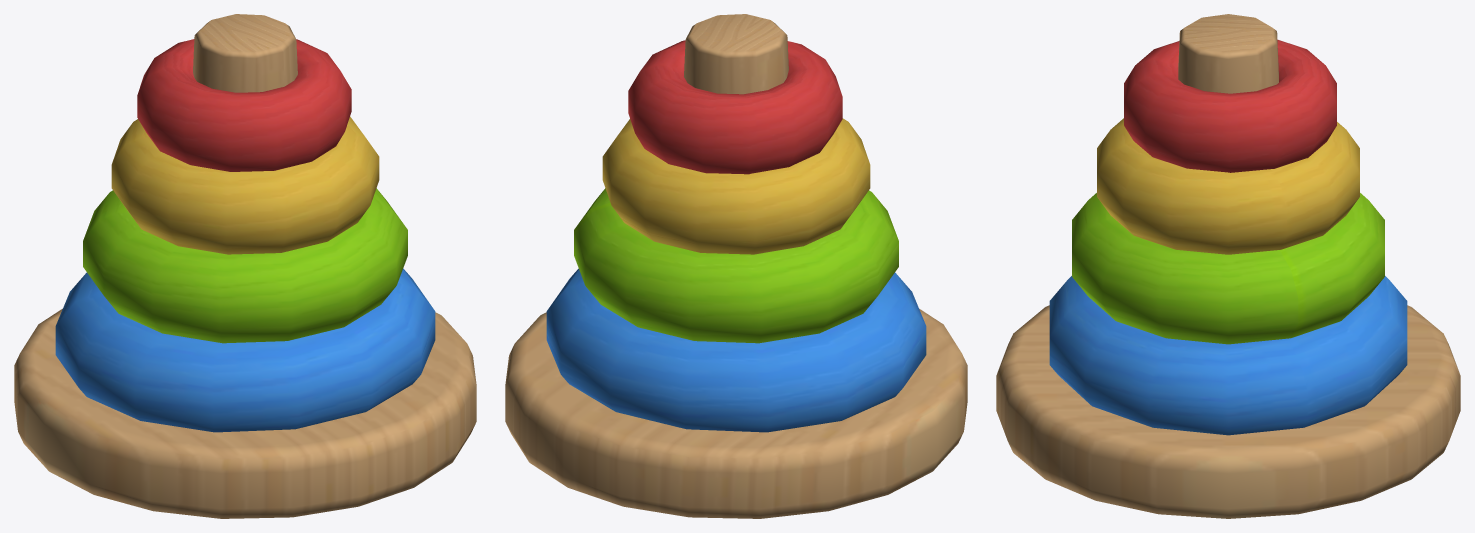
File: 0-hanoi.fbx
The picture shows the model from 3 angles, left to right: view 1: azimuth 30°, elevation 25°; view 2: azimuth 150°, elevation 25°; view 3: azimuth 270°, elevation 25°; orthographic projection.
Visible parts, largest first — view 1: 0-hanoi; view 2: 0-hanoi; view 3: 0-hanoi.
Part boxes in pixels (x1=…): 0-hanoi: x1=14, y1=14, x2=476, y2=518; 0-hanoi: x1=505, y1=14, x2=967, y2=518; 0-hanoi: x1=996, y1=14, x2=1460, y2=518.
Bounding box in the file's own units: 98.57 × 92.57 × 98.57.
